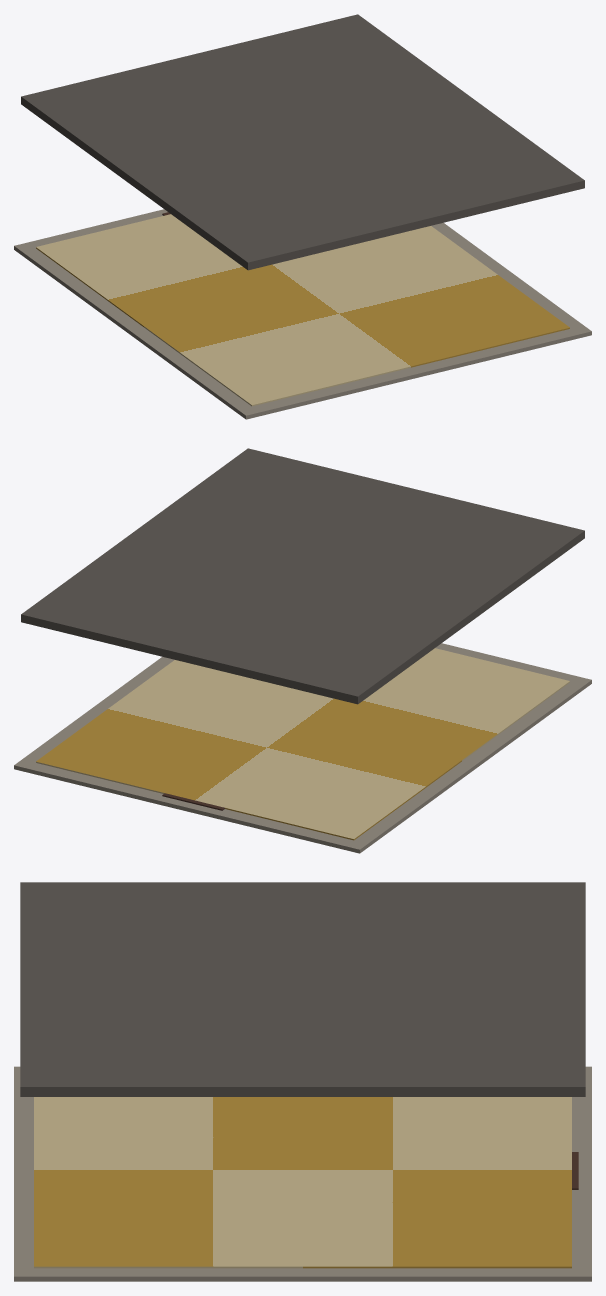
File: structure.glb
3 renders of one model, top to bottom at view 1: azimuth 30°, elevation 25°; view 2: azimuth 150°, elevation 25°; view 3: azimuth 270°, elevation 25°, orthographic. The views are drawn at different scales.
Visible parts, largest first — view 1: Box5, Box2, Box1; view 2: Box5, Box2, Box1; view 3: Box5, Box2, Box1.
Boxes of the visible parts, x1=… form: Box5: x1=21, y1=14, x2=584, y2=270; Box2: x1=36, y1=214, x2=569, y2=406; Box1: x1=14, y1=209, x2=591, y2=419; Box5: x1=21, y1=448, x2=584, y2=704; Box2: x1=36, y1=648, x2=569, y2=840; Box1: x1=14, y1=643, x2=591, y2=853; Box5: x1=20, y1=882, x2=585, y2=1096; Box2: x1=34, y1=1097, x2=571, y2=1268; Box1: x1=14, y1=1066, x2=591, y2=1281.
Bounding box in the file's own units: 9.24 × 3.93 × 10.74.
Materials: 6 (1 with a texture image).
